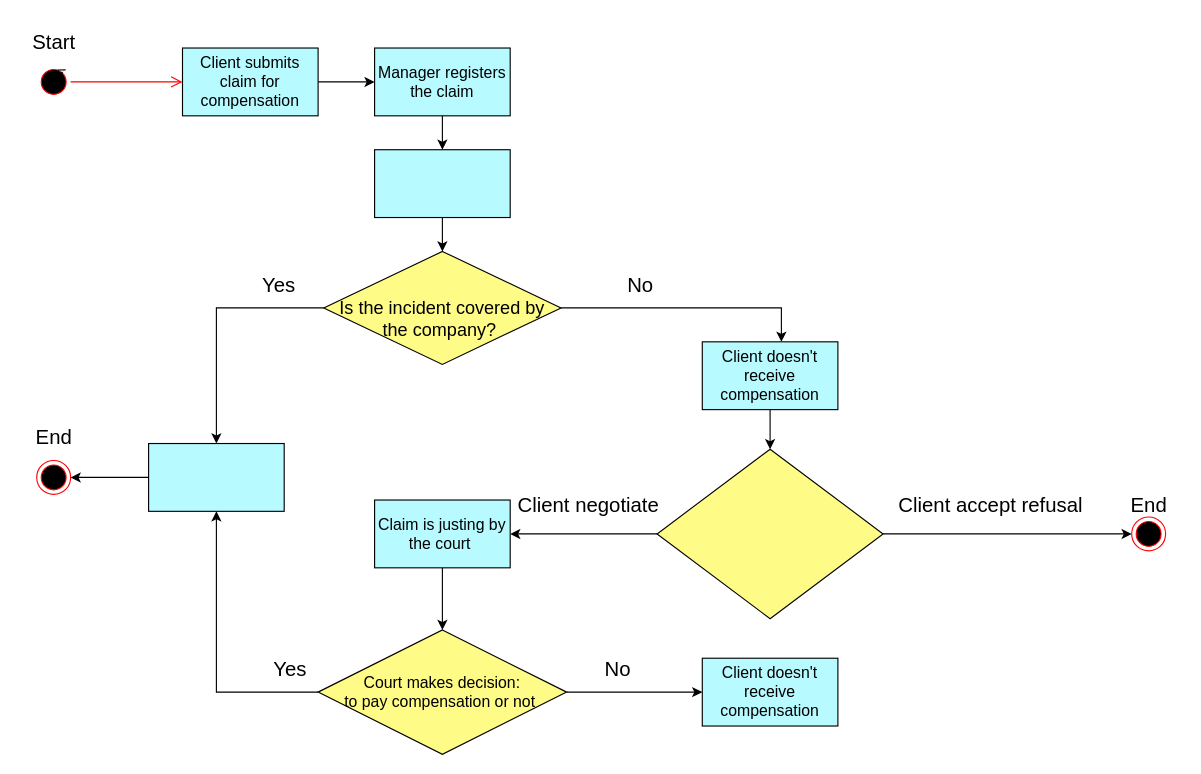
Some shapes in this 1201 by 774 pixel diagram are drawn without their labels. The centre of each missing label's shape, as x and y in pixels:
"Claims adjuster makes analysing of the accident" goes at (441,183).
"Client makes decision: Accept refusal / Negotiate" goes at (769,533).
"Company pays out compensation" goes at (215,476).
